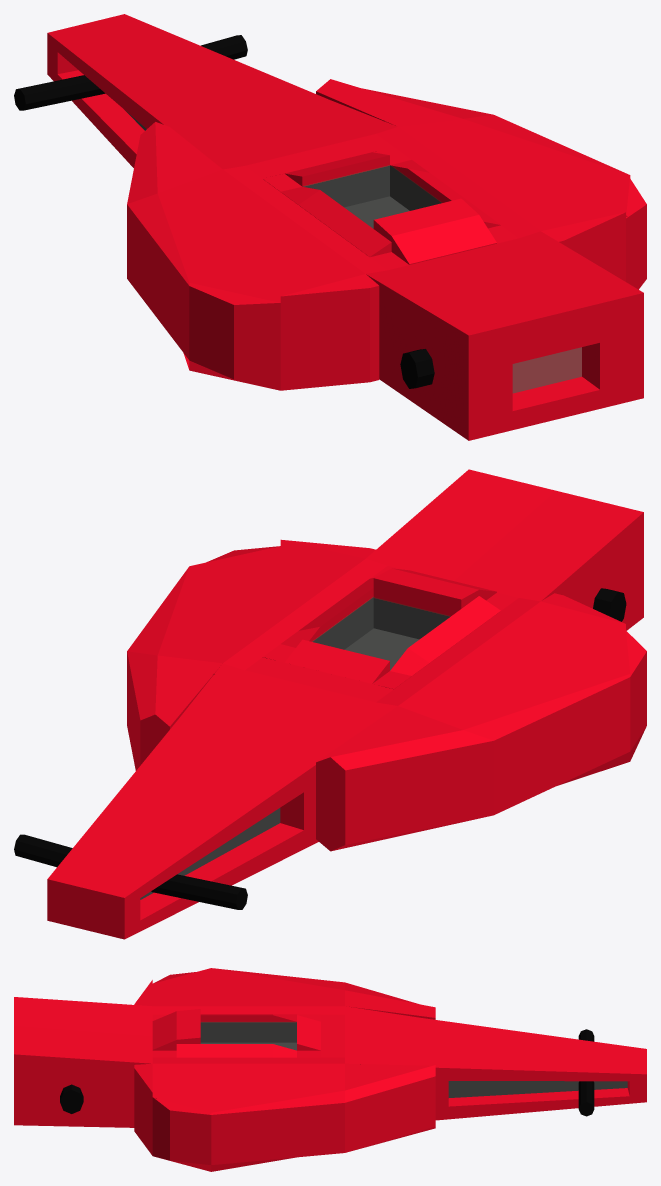
File: body.fbx
3 renders of one model, top to bottom at view 1: azimuth 30°, elevation 25°; view 2: azimuth 150°, elevation 25°; view 3: azimuth 270°, elevation 25°, orthographic. The views are drawn at different scales.
Visible parts, largest first — view 1: Cube; view 2: Cube; view 3: Cube.
Part boxes in pixels (bbox=[...]): Cube: bbox=[14, 14, 646, 440]; Cube: bbox=[14, 469, 646, 939]; Cube: bbox=[14, 968, 646, 1171].
Bounding box in the file's own units: 341 × 83.73 × 630.
